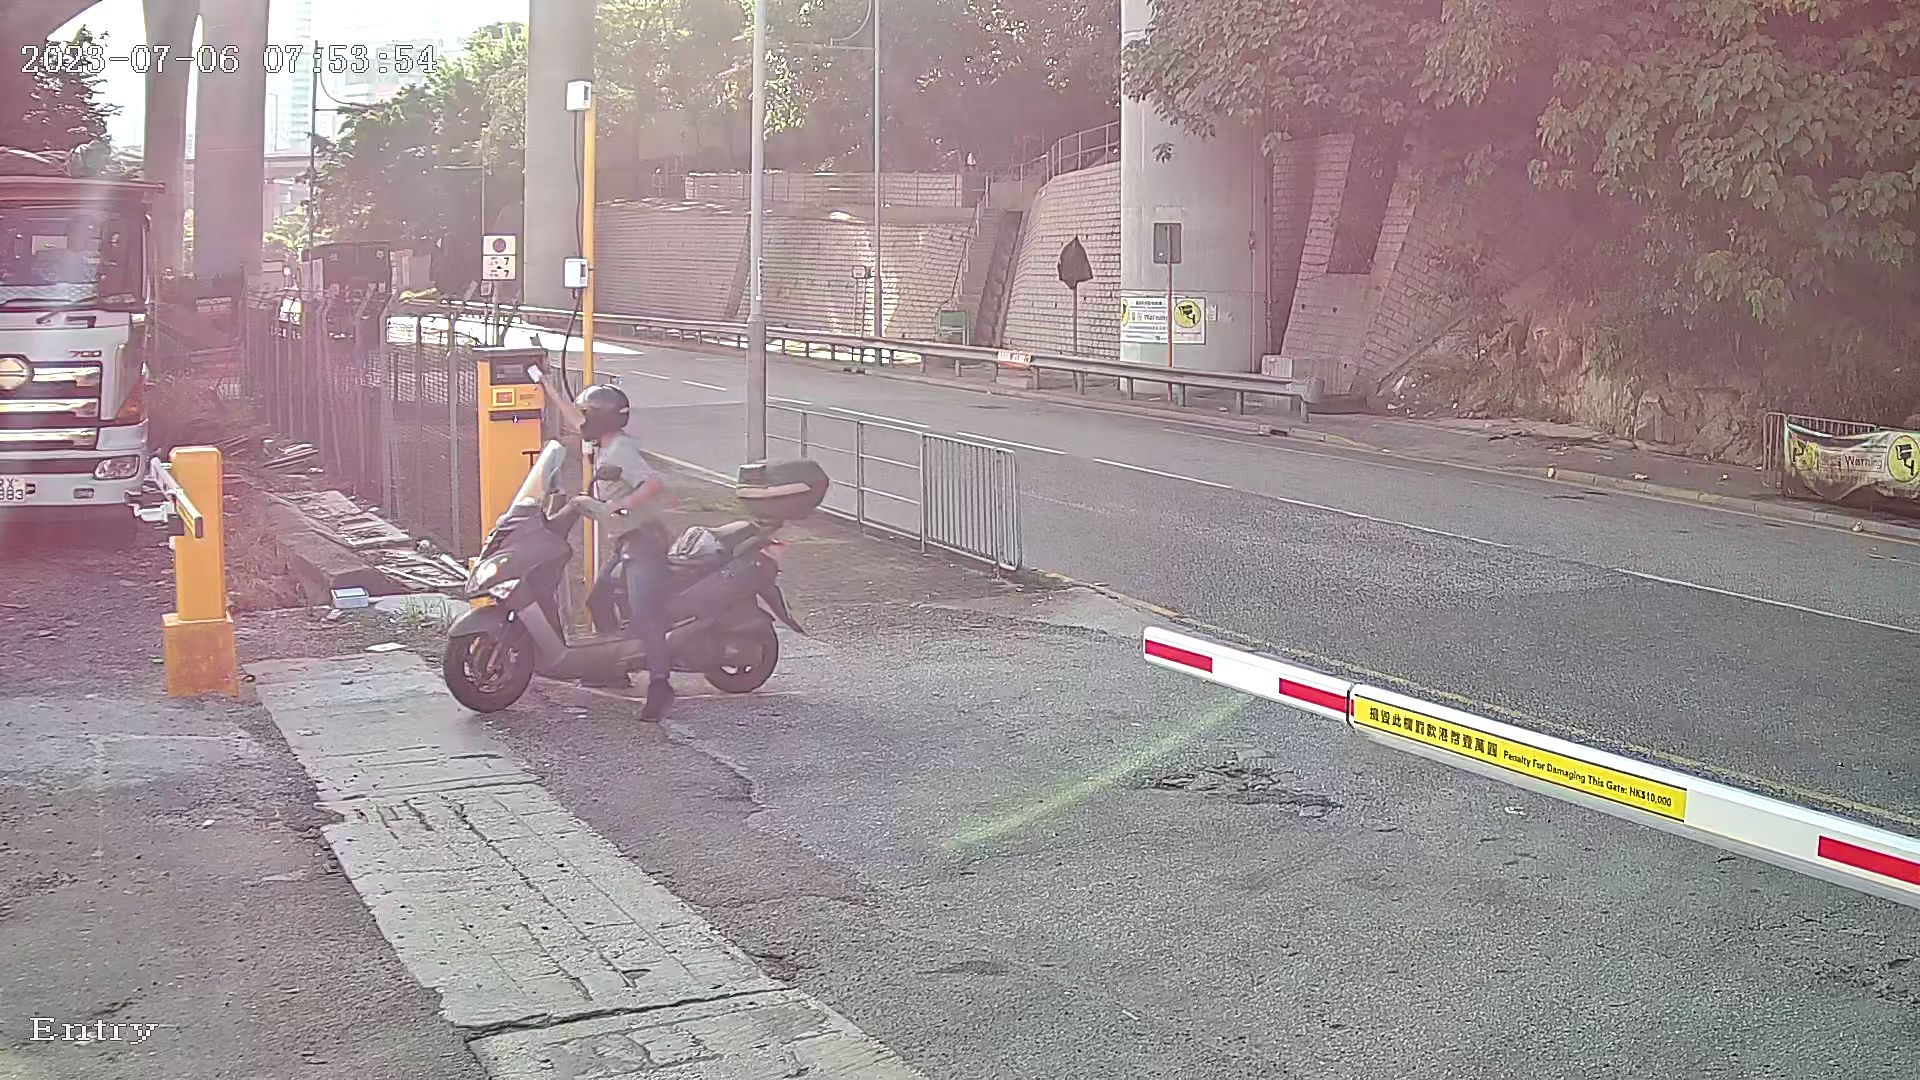motorcycle: (371, 299, 874, 742)
